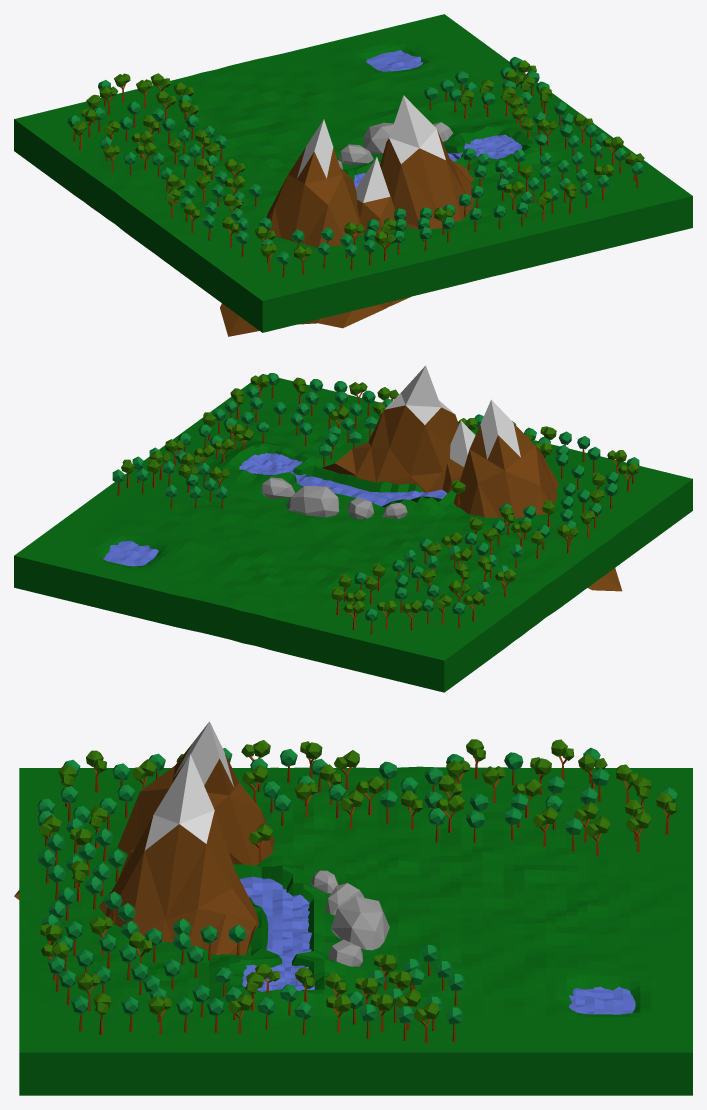
File: mvp grouped no clouds.fbx
The picture shows the model from 3 angles, top to bottom: view 1: azimuth 30°, elevation 25°; view 2: azimuth 150°, elevation 25°; view 3: azimuth 270°, elevation 25°; orthographic projection. The views are drawn at different scales.
Parts seen in each view (by area): view 1: Plane.005, Plane, Icosphere.066, Icosphere, Icosphere.002, Plane.004; view 2: Plane.005, Plane, Icosphere.066, Icosphere, Plane.004, Icosphere.001; view 3: Plane.005, Plane, Icosphere.066, Icosphere, Plane.004, Icosphere.001, Icosphere.002.
Part boxes in pixels (x1,y1,x2,y2): Plane.005: (14,14,692,336); Plane: (380,95,474,229); Icosphere.066: (424,57,551,118); Icosphere: (363,122,393,154); Icosphere.002: (339,144,373,165); Plane.004: (366,52,422,71); Plane.005: (14,373,692,692); Plane: (322,365,458,492); Icosphere.066: (112,439,229,509); Icosphere: (286,486,339,517); Plane.004: (105,541,158,566); Icosphere.001: (261,477,294,498); Plane.005: (14,721,692,1095); Plane: (98,754,258,955); Icosphere.066: (326,945,465,1042); Icosphere: (331,896,389,950); Plane.004: (568,987,635,1014); Icosphere.001: (328,939,362,966); Icosphere.002: (325,883,364,915).
Bounding box in the file's own units: 13417 × 5616 × 13526.
